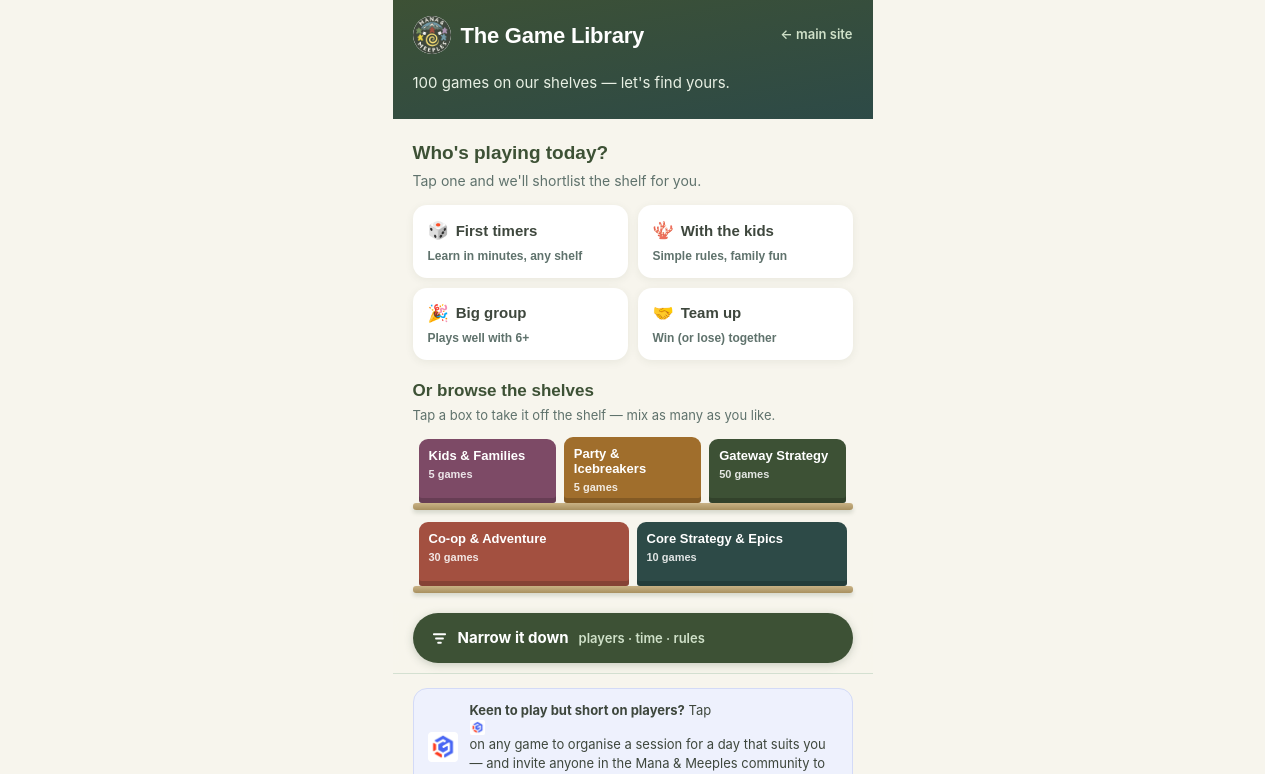
Test: PublicCatalogue Page › shelf categories are multi-select and stack (AND) with a quick pick
This screenshot has width=1280, height=774.
What coordinates should you click on to do the following:
click the button "🤝 Team up Win (or lose) together"
I would click on:
 (745, 324)
Its box is 638,288 -> 852,360.
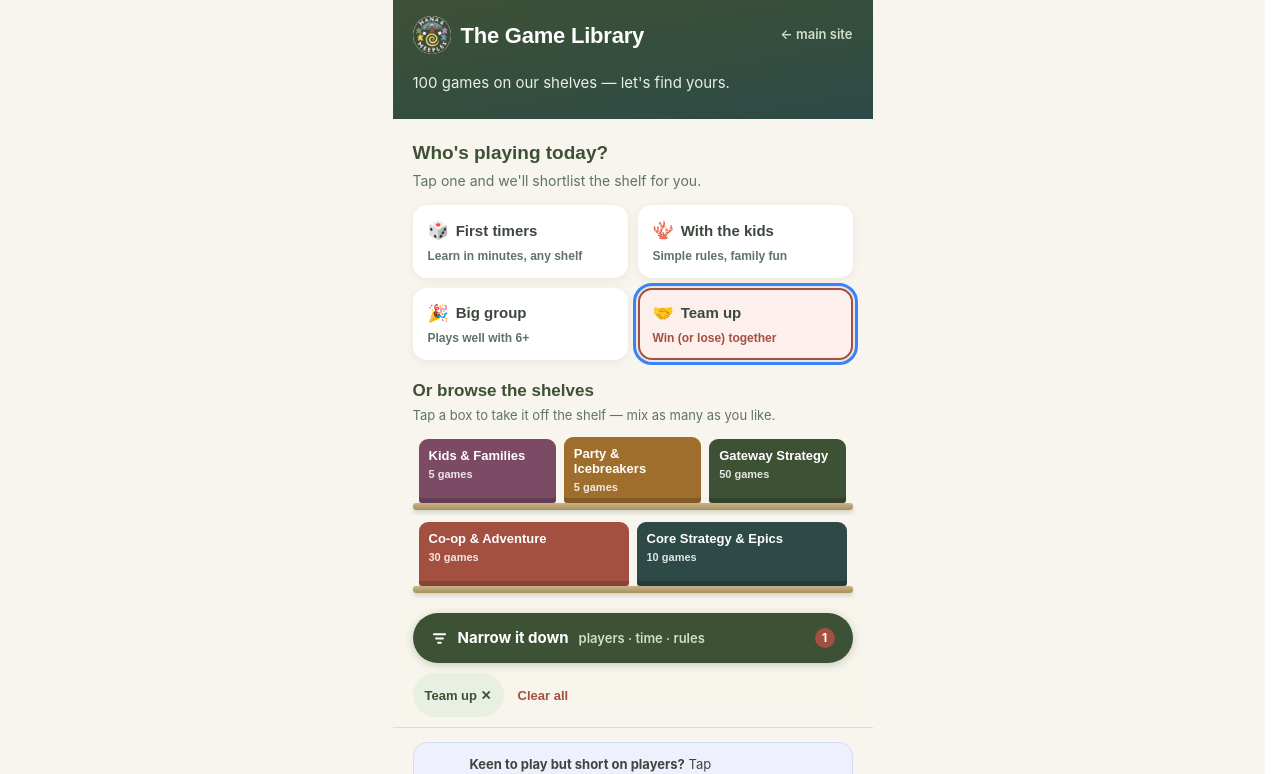
What coordinates should you click on to do the following:
click the button with aria-label "Gateway Strategy, 50 games"
I would click on:
 (778, 471)
Its box is 709,439 -> 846,503.
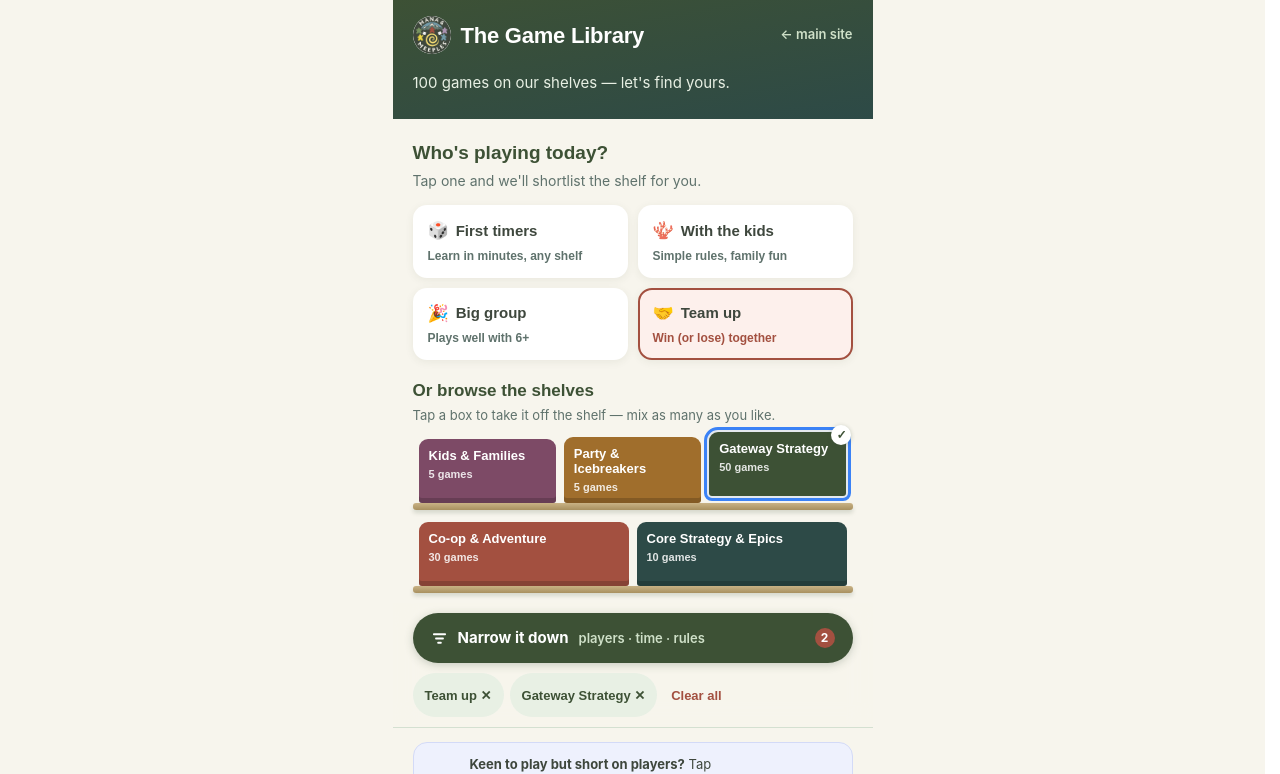
What coordinates should you click on to do the following:
click the button with aria-label "Co-op & Adventure, 30 games"
I would click on:
 (524, 554)
Its box is 418,522 -> 628,586.
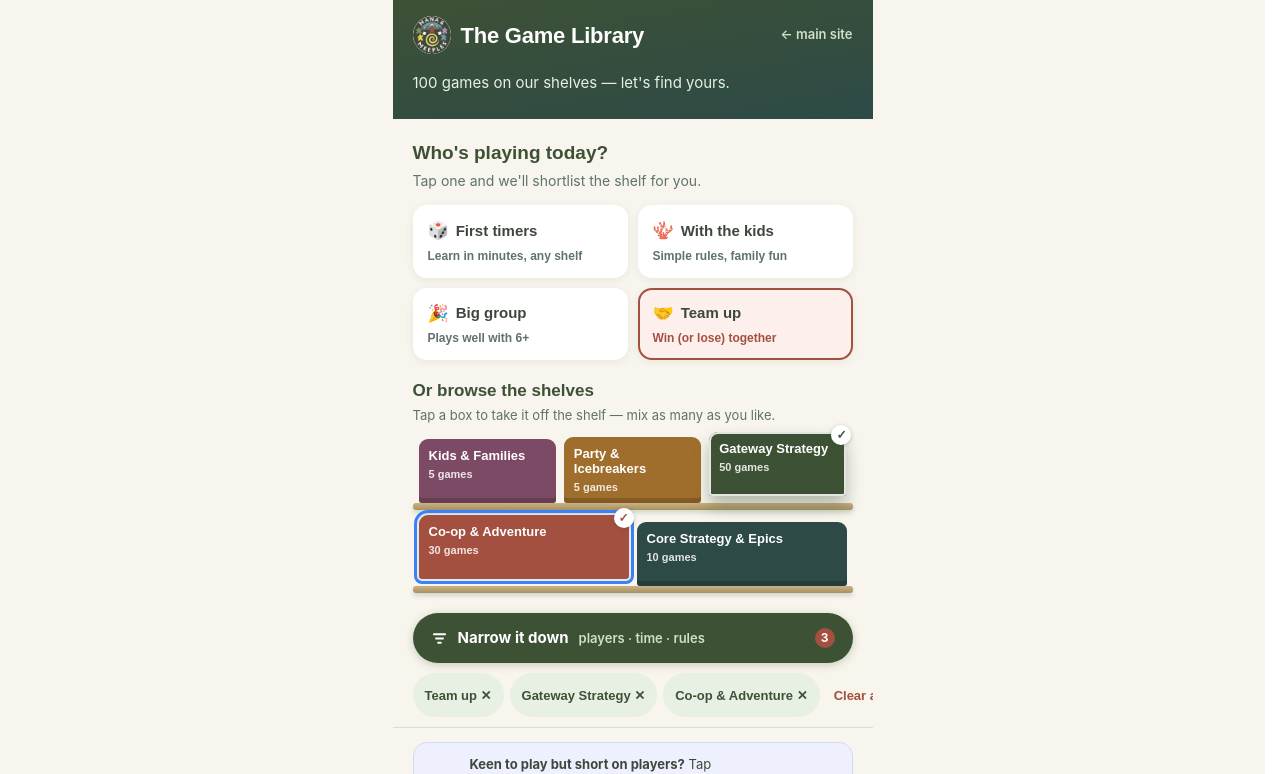
Now the button "Gateway Strategy ✕" is shown, box 510,673 -> 657,717
Now the button "Co-op & Adventure ✕" is shown, box 663,673 -> 820,717
